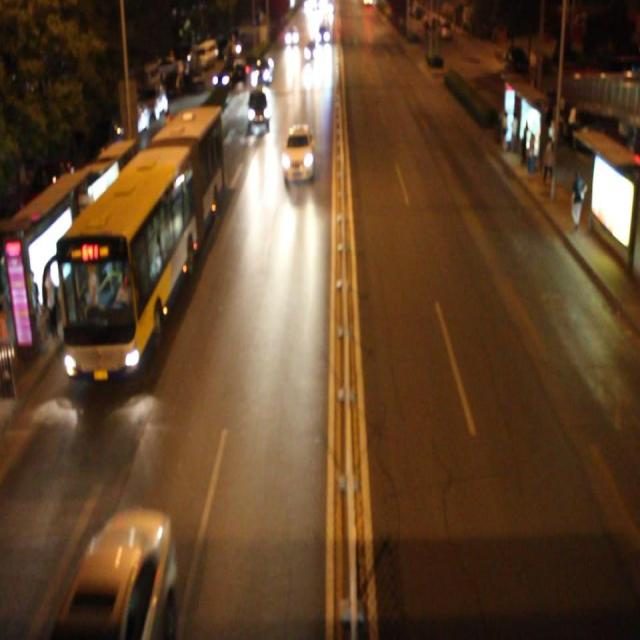car: (66, 512, 175, 640), (281, 124, 315, 184), (250, 53, 275, 88)
truck: (246, 85, 272, 128)
van: (54, 102, 219, 376)
